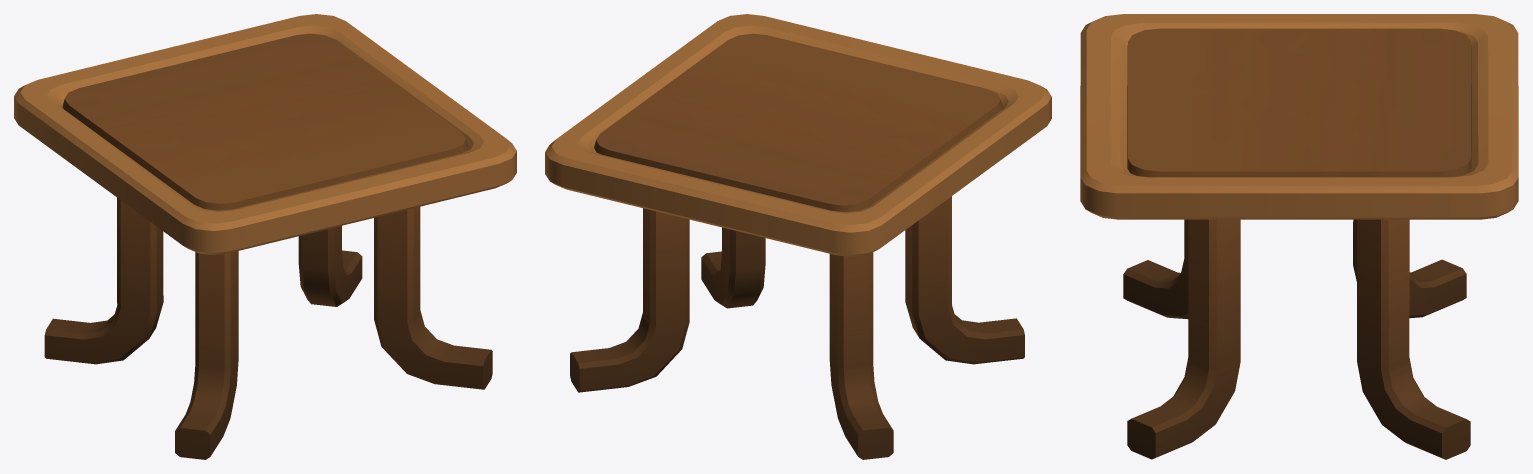
The model's file is Table_6_F.glb.
3 views of the same model, side by side, from view 1: azimuth 30°, elevation 25°; view 2: azimuth 150°, elevation 25°; view 3: azimuth 270°, elevation 25° (orthographic). The views are drawn at different scales.
Visible parts, largest first — view 1: Table_6_F; view 2: Table_6_F; view 3: Table_6_F.
Part boxes in pixels (left/top/right/bottom): Table_6_F: left=14, top=14, right=516, bottom=459; Table_6_F: left=545, top=14, right=1051, bottom=459; Table_6_F: left=1080, top=14, right=1518, bottom=459.
Size of the model in its own units: 1.21 by 0.881 by 1.27.
1 material, 1 textured.
